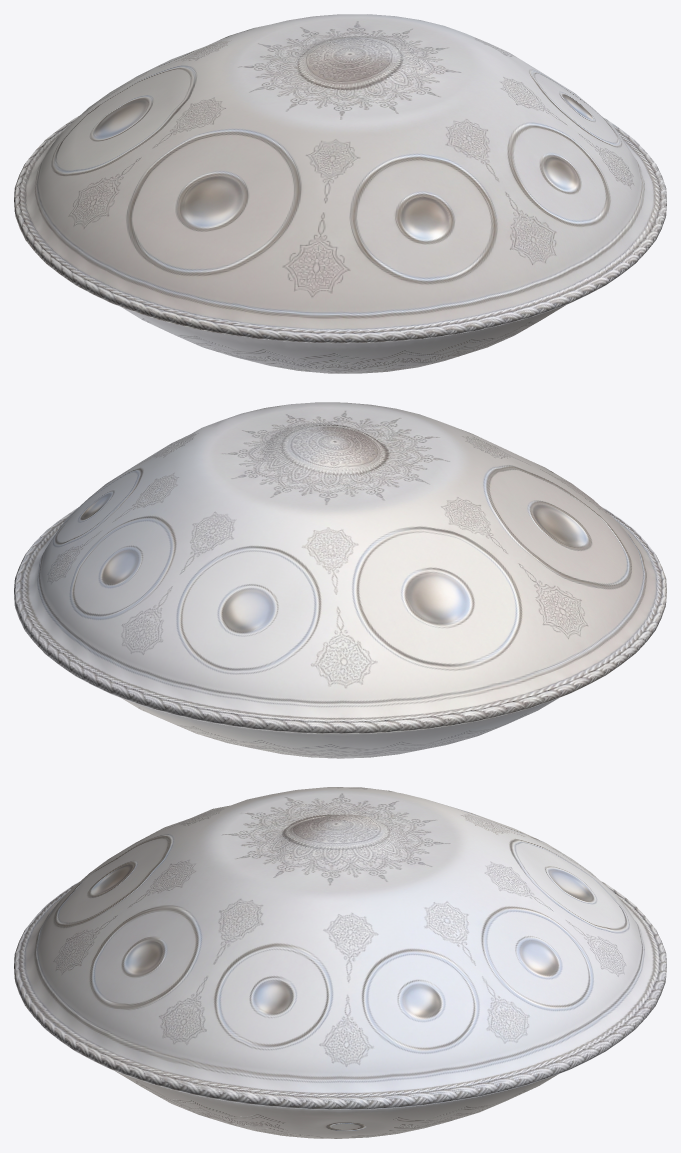
3 views of the same model, one above another, from view 1: azimuth 30°, elevation 25°; view 2: azimuth 150°, elevation 25°; view 3: azimuth 270°, elevation 25° (orthographic).
Visible parts, largest first — view 1: g; view 2: g; view 3: g.
Part boxes in pixels (bbox=[...]): g: bbox=[14, 14, 666, 373]; g: bbox=[14, 402, 666, 758]; g: bbox=[14, 787, 666, 1138].
Size of the model in its own units: 2 by 0.9154 by 2.
Materials: 1 (1 with a texture image).
